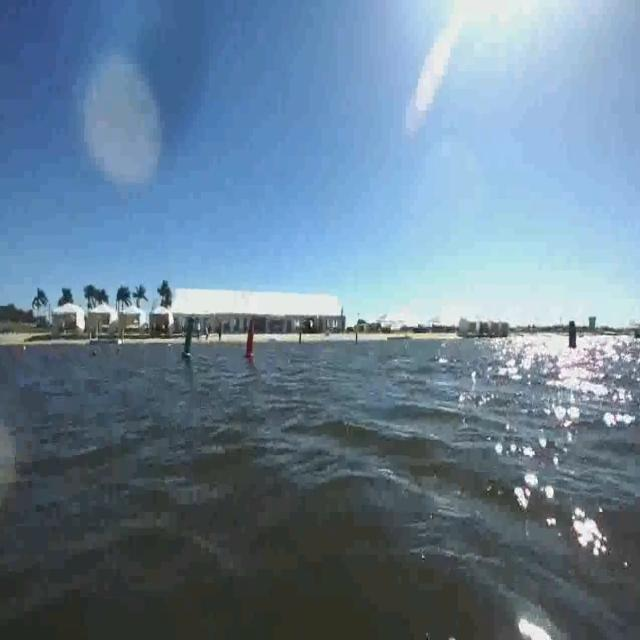green-column-buoy: (184, 317, 198, 361)
red-column-buoy: (242, 319, 256, 362)
